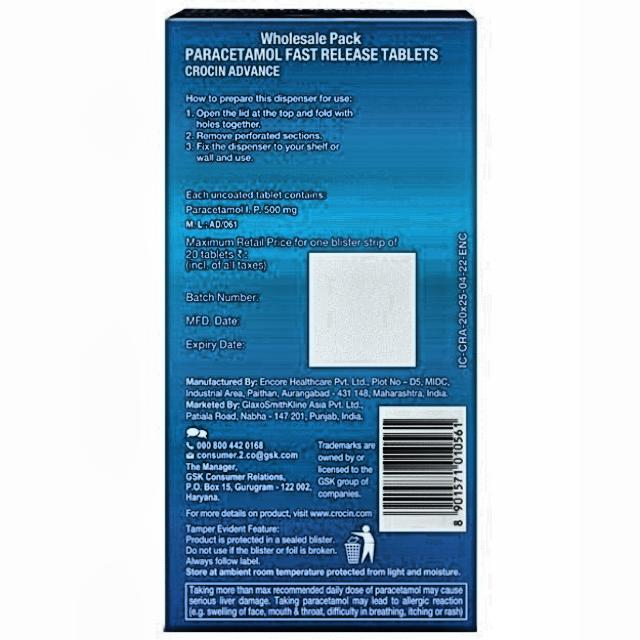Paracetamol: (175, 36, 469, 86)
